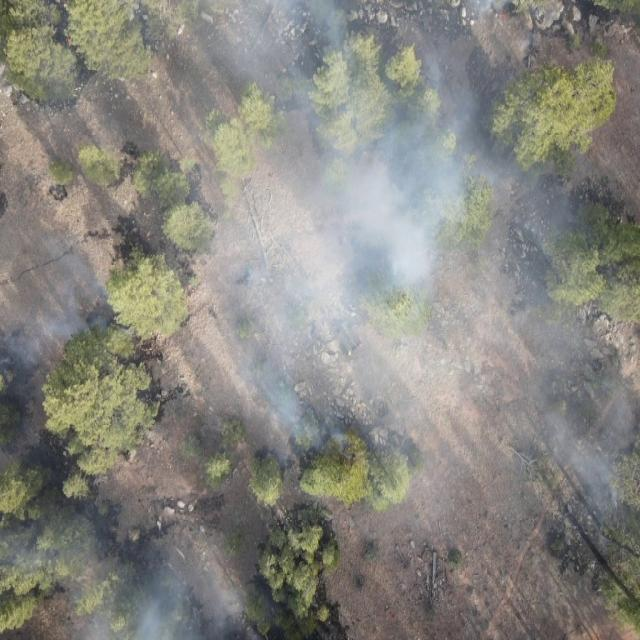fire: (494, 10, 509, 20), (66, 36, 74, 43)
smoke: (130, 0, 552, 440), (505, 178, 640, 527), (0, 521, 252, 640), (0, 229, 114, 371)
